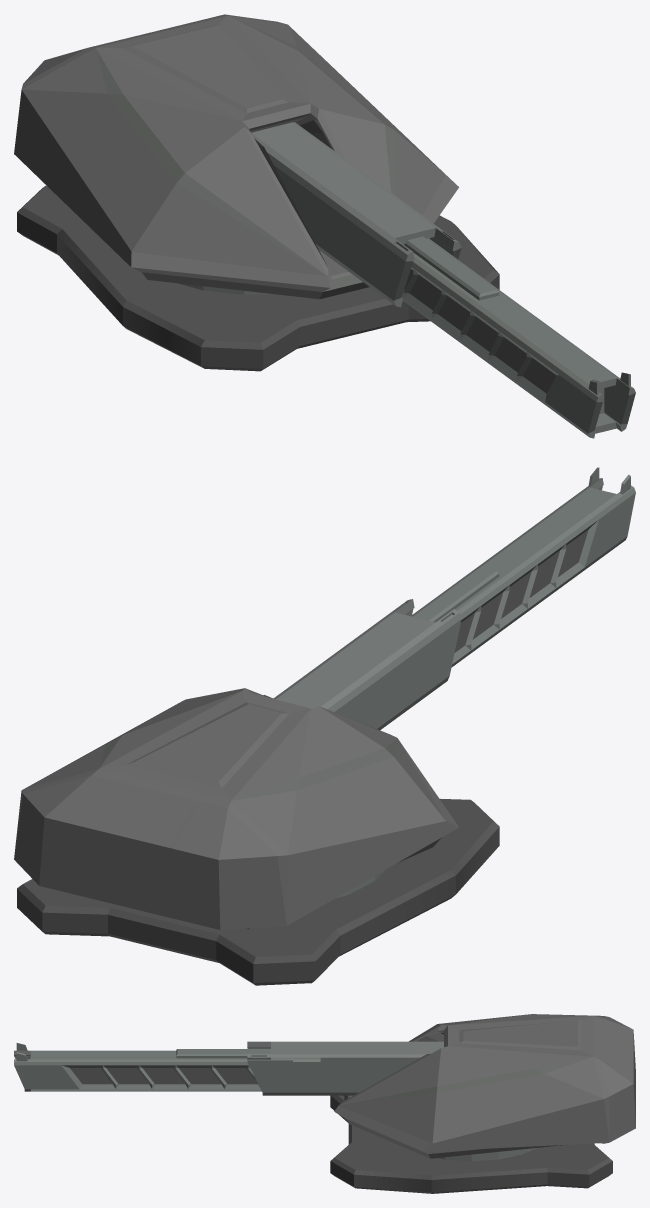
Rendered from model_polyfleet_battleship_railgun1.fbx.
3 renders of one model, top to bottom at view 1: azimuth 30°, elevation 25°; view 2: azimuth 150°, elevation 25°; view 3: azimuth 270°, elevation 25°, orthographic. The views are drawn at different scales.
Visible parts, largest first — view 1: weapon_rotate, model_polyfleet_battleship_railgun1, weapon_barrels_front, weapon_barrels_back; view 2: weapon_rotate, model_polyfleet_battleship_railgun1, weapon_barrels_front, weapon_barrels_back; view 3: weapon_rotate, model_polyfleet_battleship_railgun1, weapon_barrels_front, weapon_barrels_back.
Part boxes in pixels (x1=…): weapon_rotate: x1=14, y1=14, x2=458, y2=299; model_polyfleet_battleship_railgun1: x1=17, y1=185, x2=499, y2=371; weapon_barrels_front: x1=401, y1=236, x2=635, y2=438; weapon_barrels_back: x1=251, y1=122, x2=461, y2=307; weapon_rotate: x1=14, y1=688, x2=458, y2=929; model_polyfleet_battleship_railgun1: x1=17, y1=798, x2=499, y2=985; weapon_barrels_front: x1=411, y1=467, x2=635, y2=667; weapon_barrels_back: x1=273, y1=599, x2=461, y2=730; weapon_rotate: x1=334, y1=1014, x2=635, y2=1161; model_polyfleet_battleship_railgun1: x1=330, y1=1095, x2=612, y2=1193; weapon_barrels_front: x1=14, y1=1043, x2=320, y2=1091; weapon_barrels_back: x1=247, y1=1041, x2=443, y2=1095.
Size of the model in its own units: 254 by 125 by 643.
